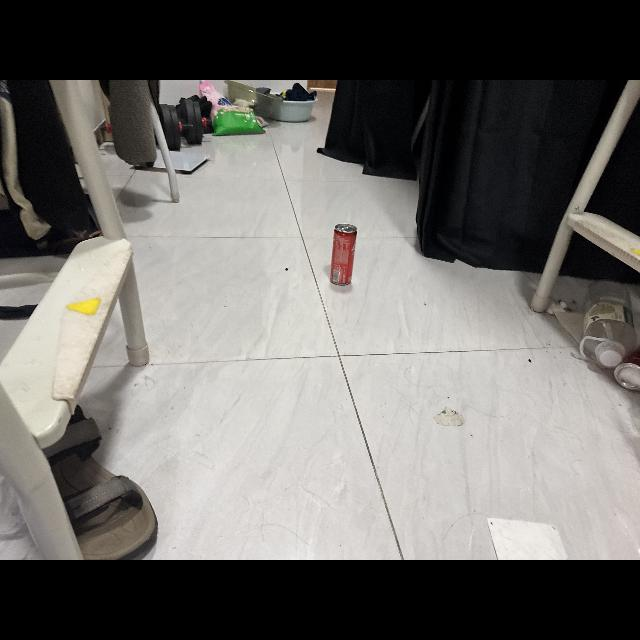Cola: (323, 220, 365, 292)
